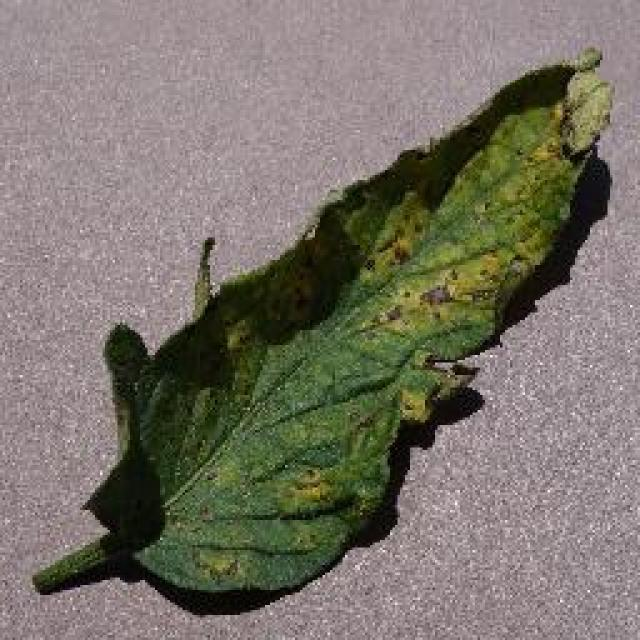Tomato Septoria spot leaf: (89, 50, 612, 595)
